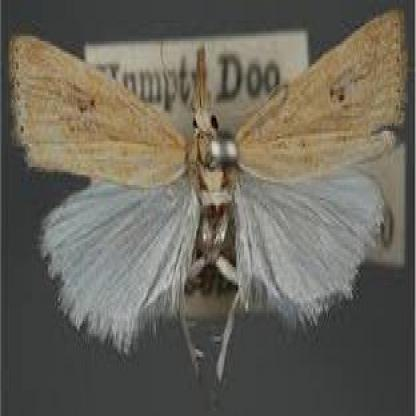stem-borer: (8, 8, 409, 396)
